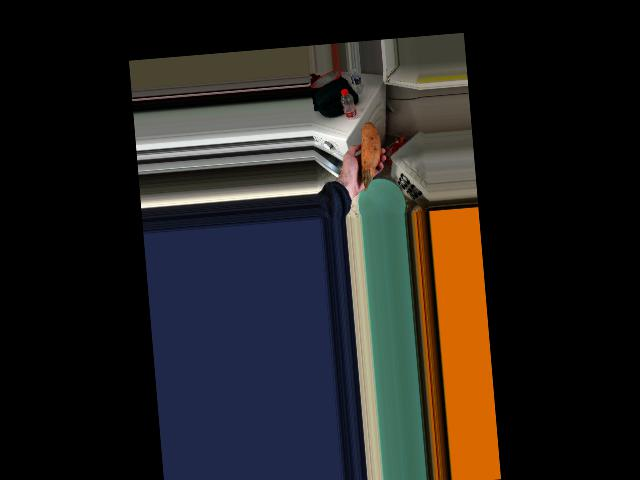sweet_potato: (356, 127, 383, 183)
